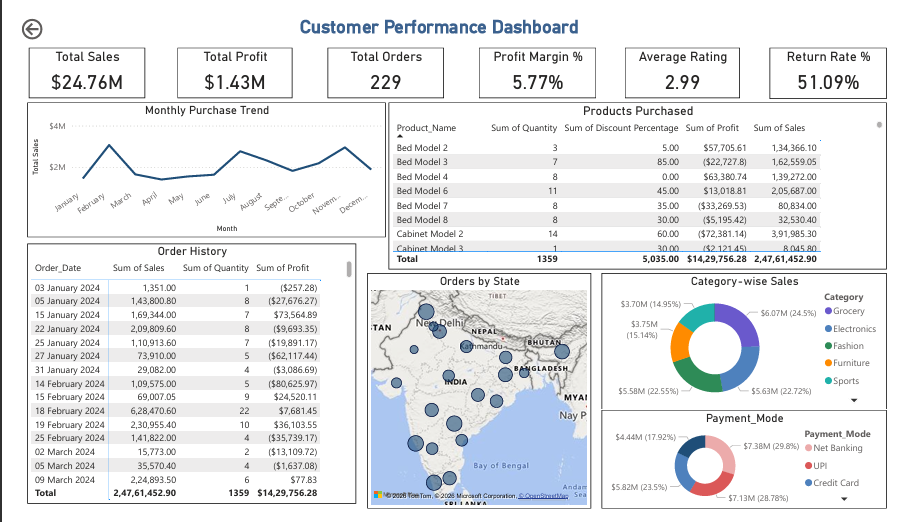

This screenshot's page, from the dashboard's own definition file:
{"tool":"powerbi","page":{"name":"Customer Details","canvas":[1280,720],"ordinal":3},"visuals":[{"type":"actionButton","box":[0,0,100,40],"z":0},{"type":"card","title":"Total Sales","fields":{"Values":["Measures_Values.Total Sales"]},"box":[14.9,46.8,170.2,74.5],"z":2000},{"type":"card","title":"Total Orders","fields":{"Values":["Measures_Values.Total Orders"]},"box":[451.1,46.8,170.2,74.5],"z":3000},{"type":"card","title":"Total Profit","fields":{"Values":["Measures_Values.Total Profit"]},"box":[231.9,46.8,168.1,74.5],"z":4000},{"type":"card","title":"Profit Margin %","fields":{"Values":["Measures_Values.Profit Margin %"]},"box":[672.3,46.8,170.2,74.5],"z":5000},{"type":"card","title":"Average Rating","fields":{"Values":["Measures_Values.Average Rating"]},"box":[885.1,46.8,168.1,74.5],"z":6000},{"type":"card","title":"Return Rate %","fields":{"Values":["Measures_Values.Return Rate %"]},"box":[1095.6,46.7,171.1,75.6],"z":7000},{"type":"shape","title":"Customer Performance Dashboard","box":[342.6,0,542.6,40.4],"z":8000},{"type":"lineChart","title":"Monthly Purchase Trend","fields":{"Category":["Date Table.Month"],"Y":["Measures_Values.Total Sales"]},"box":[13.3,126.7,522.2,197.8],"z":9000},{"type":"donutChart","title":"Category-wise Sales","fields":{"Category":["Business Intelligence Case Study Dataset.Category"],"Y":["Measures_Values.Total Sales"]},"box":[851.1,375.6,415.6,200],"z":10000},{"type":"tableEx","title":"Products Purchased","fields":{"Values":["Business Intelligence Case Study Dataset.Product_Name","Sum(Business Intelligence Case Study Dataset.Quantity)","Sum(Business Intelligence Case Study Dataset.Discount Percentage)","Sum(Business Intelligence Case Study Dataset.Profit)","Sum(Business Intelligence Case Study Dataset.Sales)"]},"box":[540,126.7,726.7,244.4],"z":11000},{"type":"donutChart","title":"Payment_Mode","fields":{"Category":["Business Intelligence Case Study Dataset.Payment_Mode"],"Y":["Measures_Values.Total Sales"]},"box":[851.1,575.6,415.6,144.4],"z":12000},{"type":"map","title":"Orders by State","fields":{"Category":["Business Intelligence Case Study Dataset.State"],"Size":["Measures_Values.Total Sales"]},"box":[508.9,375.6,326.7,344.4],"z":13000},{"type":"pivotTable","title":"Order History","fields":{"Rows":["Business Intelligence Case Study Dataset.Order_Date"],"Values":["Sum(Business Intelligence Case Study Dataset.Sales)","Sum(Business Intelligence Case Study Dataset.Quantity)","Sum(Business Intelligence Case Study Dataset.Profit)"]},"box":[13.3,333.3,480,380],"z":14000}]}

Visuals, with their boxes in screenshot pixels (x1, y1, x2, y2), scaled from the page's 1280x720 canvas onto the 908x522 screenshot:
actionButton: crop(0, 0, 71, 29)
"Total Sales" card: crop(11, 34, 131, 88)
"Total Orders" card: crop(320, 34, 441, 88)
"Total Profit" card: crop(165, 34, 284, 88)
"Profit Margin %" card: crop(477, 34, 598, 88)
"Average Rating" card: crop(628, 34, 747, 88)
"Return Rate %" card: crop(777, 34, 899, 89)
"Customer Performance Dashboard" shape: crop(243, 0, 628, 29)
"Monthly Purchase Trend" lineChart: crop(9, 92, 380, 235)
"Category-wise Sales" donutChart: crop(604, 272, 899, 417)
"Products Purchased" tableEx: crop(383, 92, 899, 269)
"Payment_Mode" donutChart: crop(604, 417, 899, 521)
"Orders by State" map: crop(361, 272, 593, 521)
"Order History" pivotTable: crop(9, 242, 350, 517)
